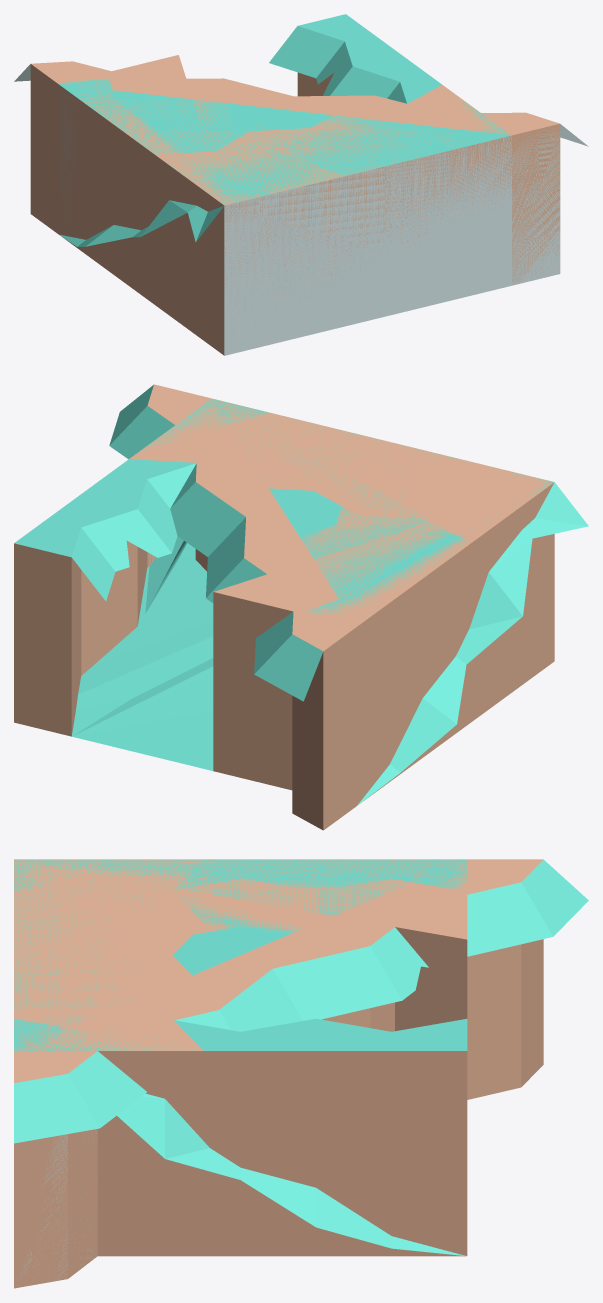
Rendered from cliffs.glb.
3 renders of one model, top to bottom at view 1: azimuth 30°, elevation 25°; view 2: azimuth 150°, elevation 25°; view 3: azimuth 270°, elevation 25°, orthographic. The views are drawn at different scales.
Parts seen in each view (by area): view 1: cliff_blockDiagonal_rock, cliff_blockSlope_stone, cliff_blockSlopeWalls_rock, cliff_diagonal_rock, cliff_large_rock, cliff_cornerInnerLarge_rock, cliff_topDiagonal_stone, cliff_cornerInner_rock, cliff_cornerLarge_rock, cliff_corner_rock, cliff_cornerInner_stone; view 2: cliff_blockSlopeWalls_rock, cliff_cornerInnerLarge_rock, cliff_diagonal_rock, cliff_blockSlope_rock, cliff_large_rock, cliff_blockDiagonal_rock, cliff_blockSlope_stone, cliff_topDiagonal_rock, cliff_cornerLarge_rock, cliff_cornerInner_rock; view 3: cliff_blockSlopeWalls_rock, cliff_cornerInnerLarge_rock, cliff_diagonal_rock, cliff_topDiagonal_rock, cliff_large_rock, cliff_cornerInner_rock, cliff_blockSlope_rock, cliff_blockDiagonal_rock, cliff_cornerLarge_rock, cliff_blockSlope_stone, cliff_corner_rock, cliff_topDiagonal_stone.
Part boxes in pixels (x1,y1,x2,y2): cliff_blockDiagonal_rock: [59, 84, 511, 354]; cliff_blockSlope_stone: [59, 136, 511, 355]; cliff_blockSlopeWalls_rock: [59, 14, 510, 355]; cliff_diagonal_rock: [30, 61, 560, 285]; cliff_large_rock: [155, 128, 463, 349]; cliff_cornerInnerLarge_rock: [111, 55, 509, 192]; cliff_topDiagonal_stone: [14, 64, 588, 285]; cliff_cornerInner_rock: [58, 79, 508, 237]; cliff_cornerLarge_rock: [155, 147, 343, 353]; cliff_corner_rock: [196, 184, 269, 354]; cliff_cornerInner_stone: [59, 86, 94, 231]; cliff_blockSlopeWalls_rock: [14, 398, 554, 805]; cliff_cornerInnerLarge_rock: [129, 399, 551, 790]; cliff_diagonal_rock: [147, 384, 356, 830]; cliff_blockSlope_rock: [72, 485, 554, 805]; cliff_large_rock: [181, 398, 550, 721]; cliff_blockDiagonal_rock: [222, 413, 554, 614]; cliff_blockSlope_stone: [141, 482, 588, 804]; cliff_topDiagonal_rock: [109, 385, 323, 701]; cliff_cornerLarge_rock: [385, 451, 553, 706]; cliff_cornerInner_rock: [199, 399, 499, 626]; cliff_blockSlopeWalls_rock: [14, 859, 467, 1256]; cliff_cornerInnerLarge_rock: [14, 859, 467, 1256]; cliff_diagonal_rock: [14, 859, 543, 1288]; cliff_topDiagonal_rock: [14, 859, 588, 1143]; cliff_large_rock: [14, 859, 203, 1049]; cliff_cornerInner_rock: [14, 859, 467, 1050]; cliff_blockSlope_rock: [117, 1093, 466, 1256]; cliff_blockDiagonal_rock: [14, 859, 464, 1047]; cliff_cornerLarge_rock: [14, 859, 203, 937]; cliff_blockSlope_stone: [139, 1094, 432, 1252]; cliff_corner_rock: [14, 860, 77, 891]; cliff_topDiagonal_stone: [18, 1130, 97, 1280].
Size of the model in its own units: 1.37 by 0.4997 by 1.27.
